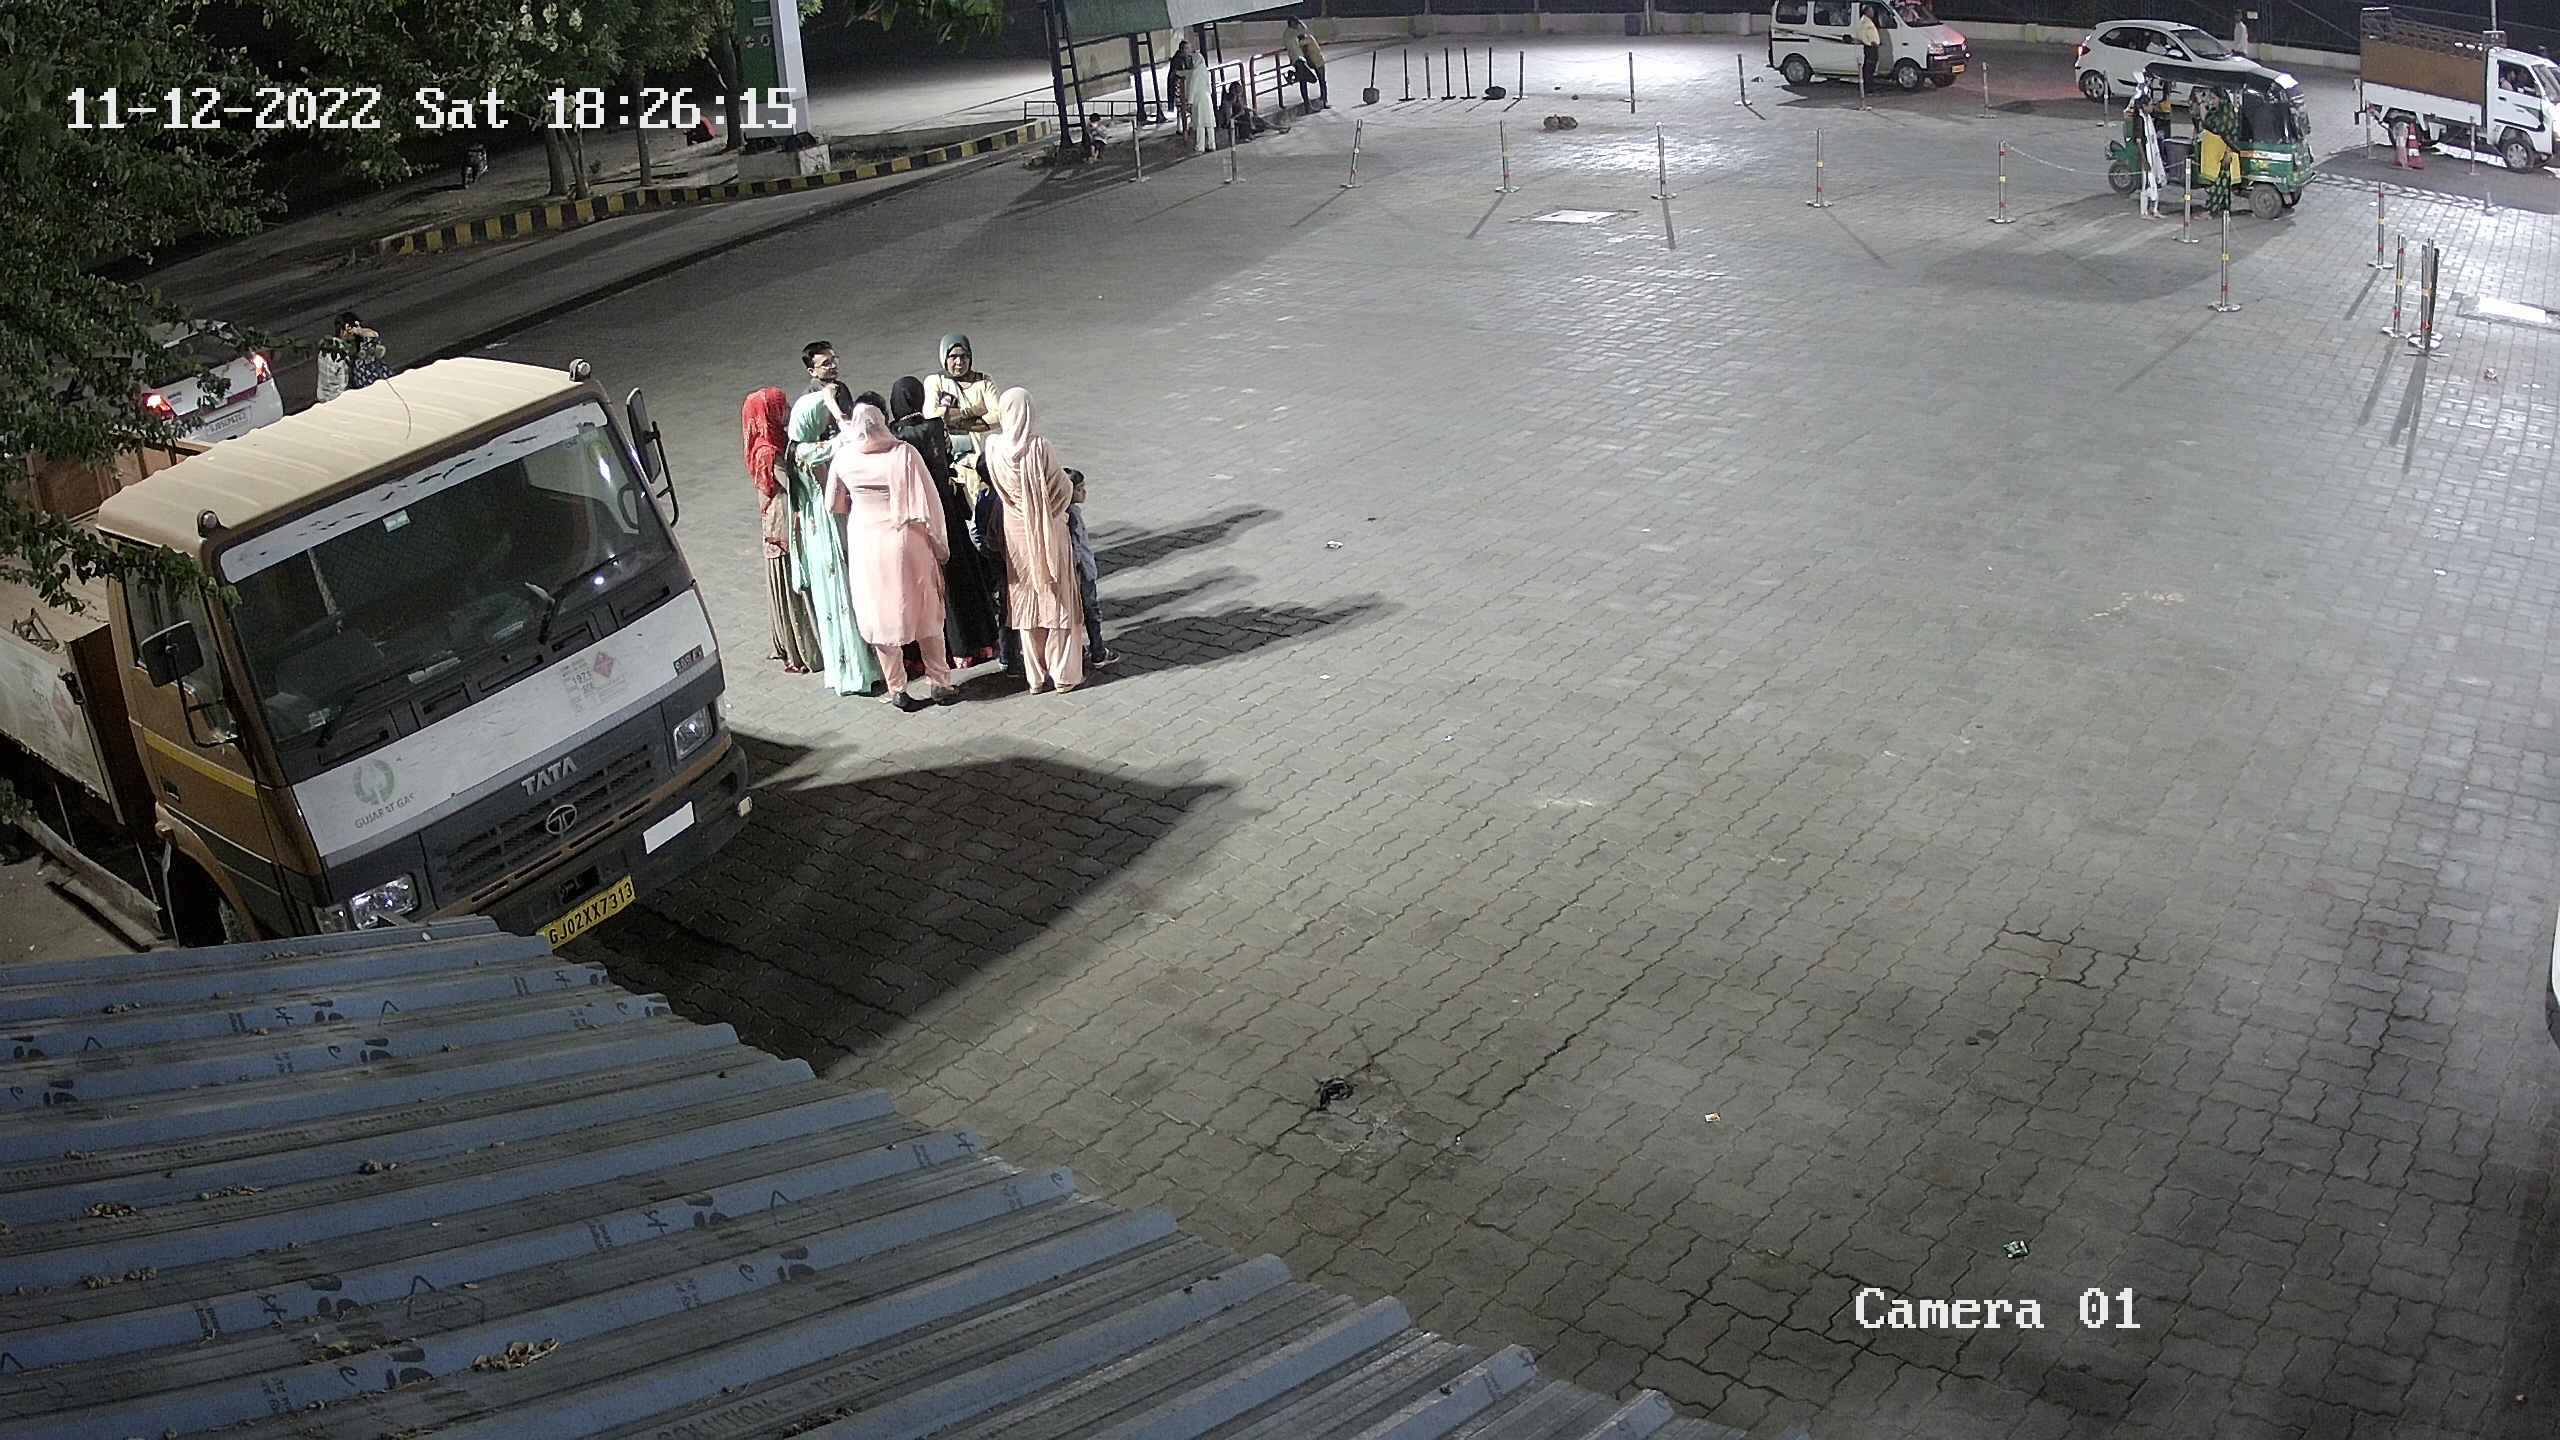Auto: (2092, 47, 2324, 227)
Car: (53, 294, 304, 452), (2344, 0, 2558, 179), (2061, 9, 2310, 118), (1758, 0, 1976, 98)
HMV: (0, 322, 781, 964)
